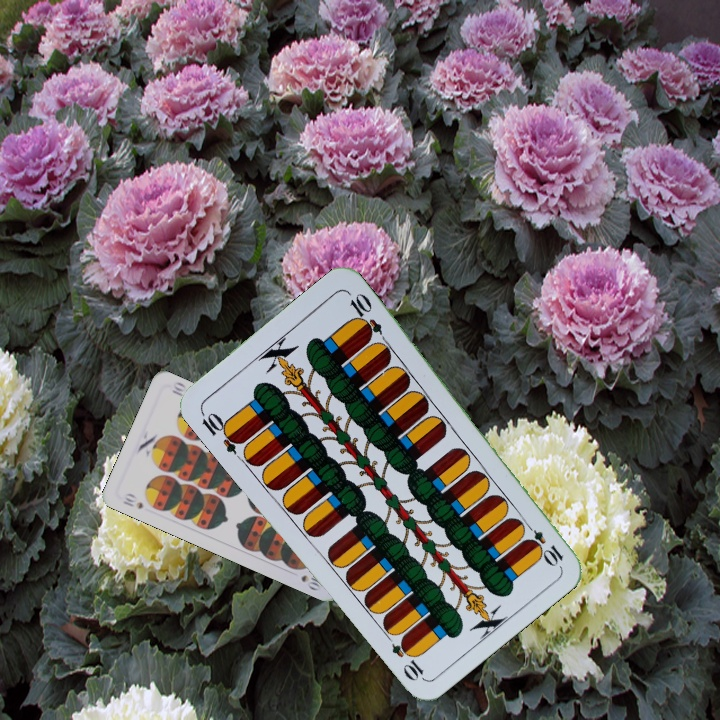E10: (196, 407, 246, 456), (519, 517, 566, 568)
S10: (118, 489, 146, 512)
